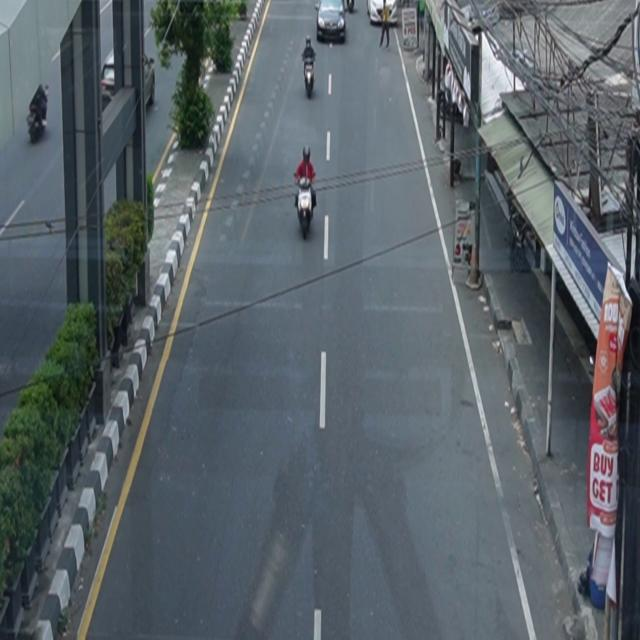car: (102, 42, 156, 109), (315, 1, 347, 44), (367, 1, 398, 26)
